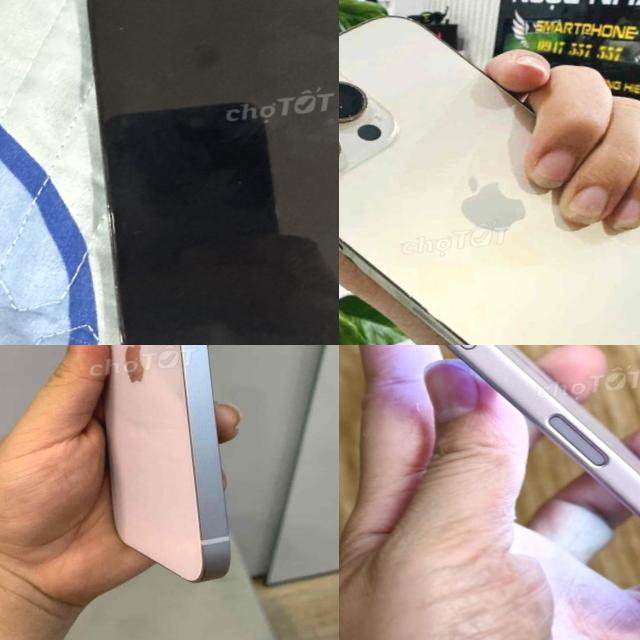gen_12_13: (61, 0, 339, 345)
gen_14: (339, 0, 640, 345), (44, 345, 270, 593)
gen_17: (444, 345, 640, 519)
